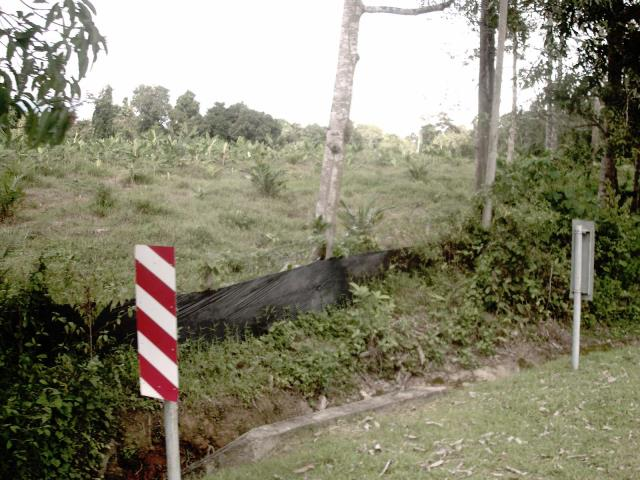traffic_sign: (123, 232, 193, 414)
